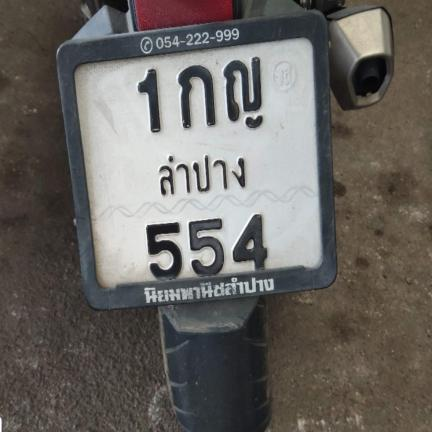1: (130, 63, 167, 138)
4: (230, 209, 276, 271)
5: (140, 218, 185, 282), (187, 217, 226, 279)
A01: (174, 60, 216, 129)
A13: (220, 55, 270, 131)
LPG: (145, 147, 254, 200)
